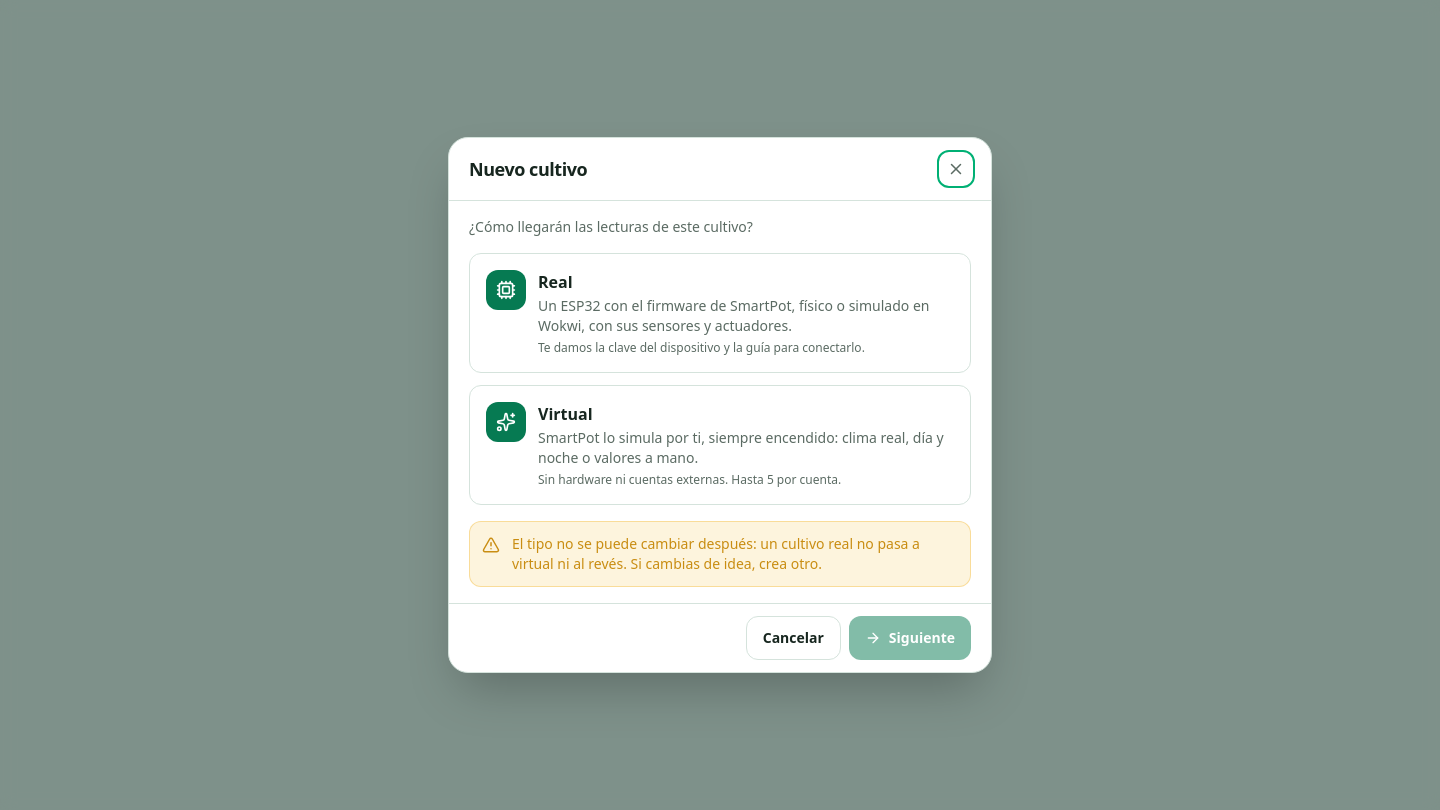
Test: crear un cultivo › uno real muestra la clave y la guía del ESP32 y de Wokwi
Click the radio button labelled "Real" at (720, 313), box [469,253,971,373]
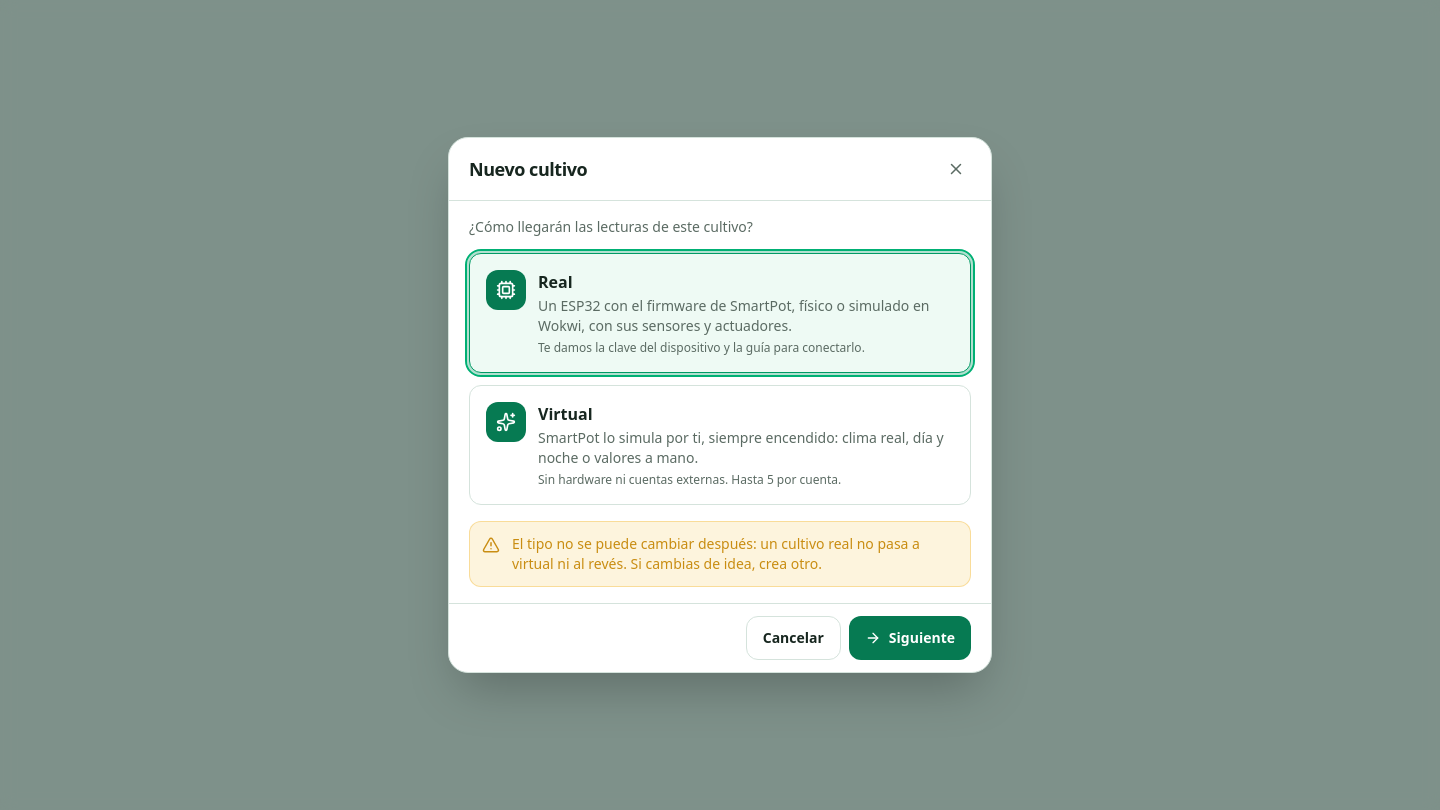
Click the button "Siguiente" at (910, 638), box [849,616,971,660]
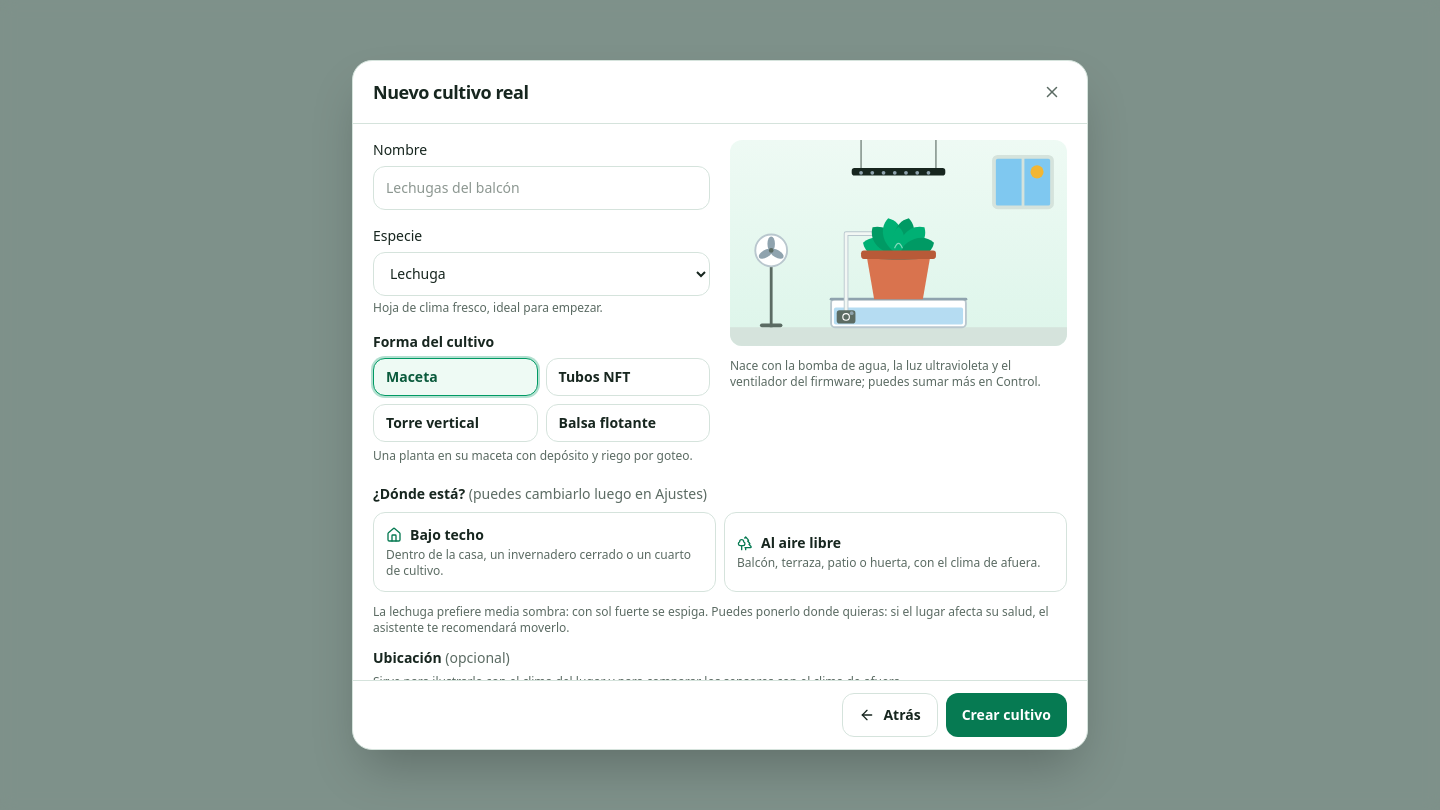
Type "Lechugas" into the field labelled "Nombre" at (542, 188), box [373,166,710,210]
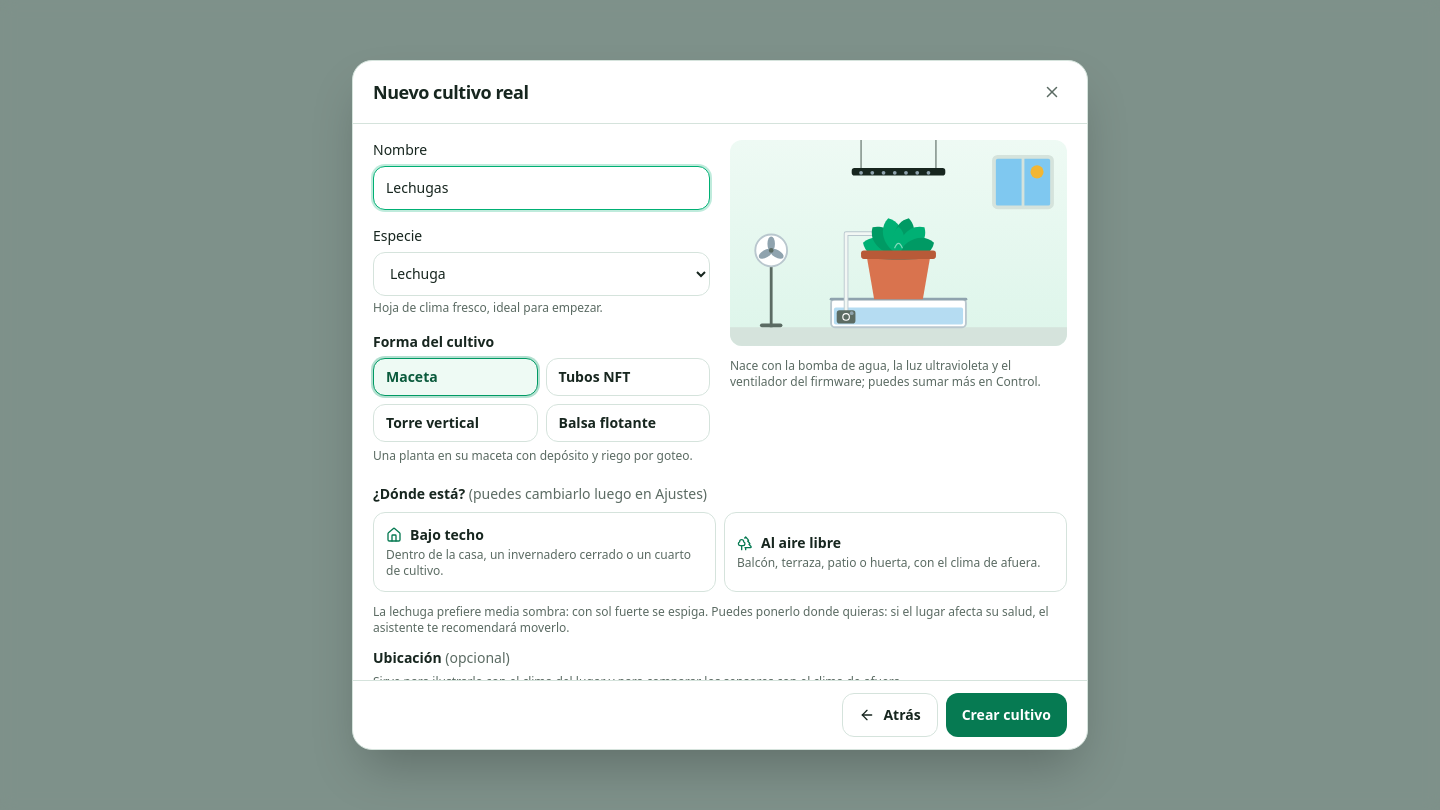
Click the button "Crear cultivo" at (1006, 715), box [946,693,1067,737]
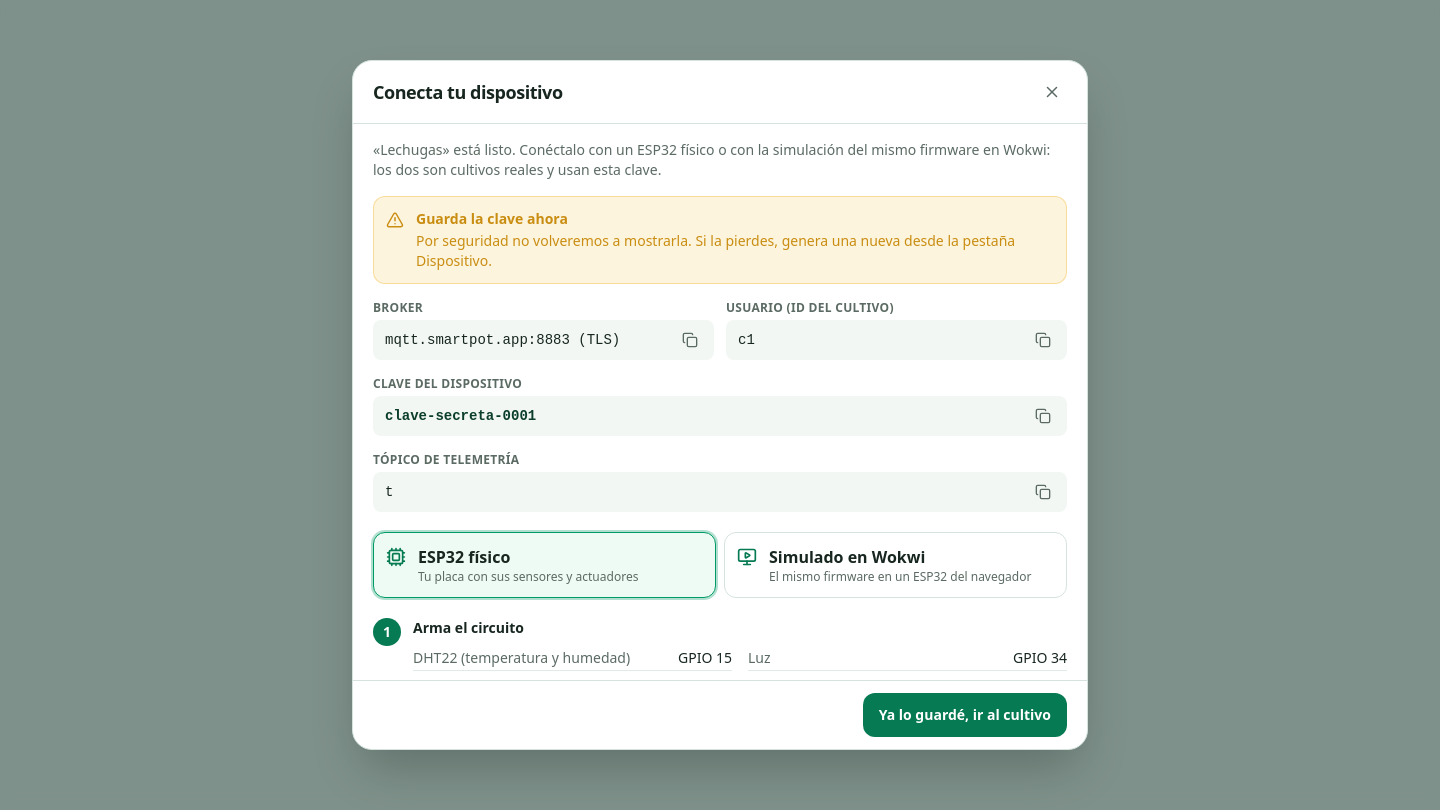
Expected: the text "Guarda la clave ahora" is shown, [416,209,568,228]
Expected: the text "clave-secreta-0001" is shown, [385,408,536,424]
Expected: the text "Arma el circuito" is shown, [413,618,524,637]
